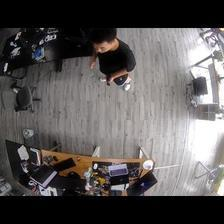normal: (88, 28, 136, 92)
